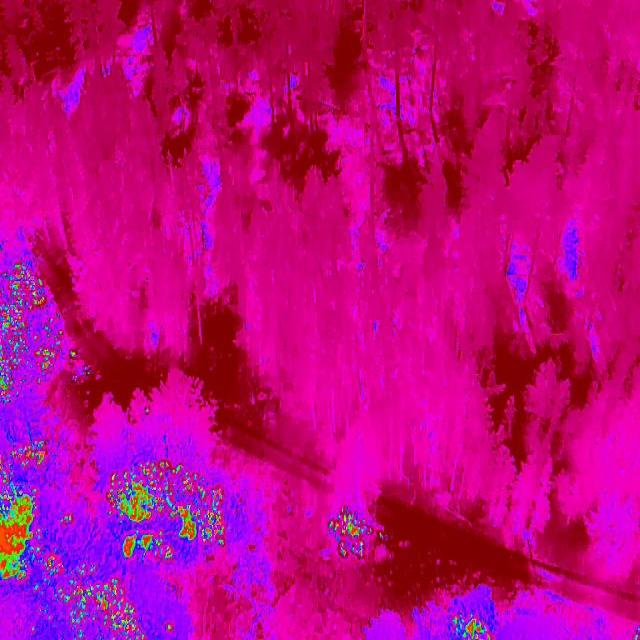fire: (0, 251, 61, 640), (110, 463, 230, 572), (61, 561, 147, 640), (327, 503, 392, 561), (446, 611, 498, 640)
